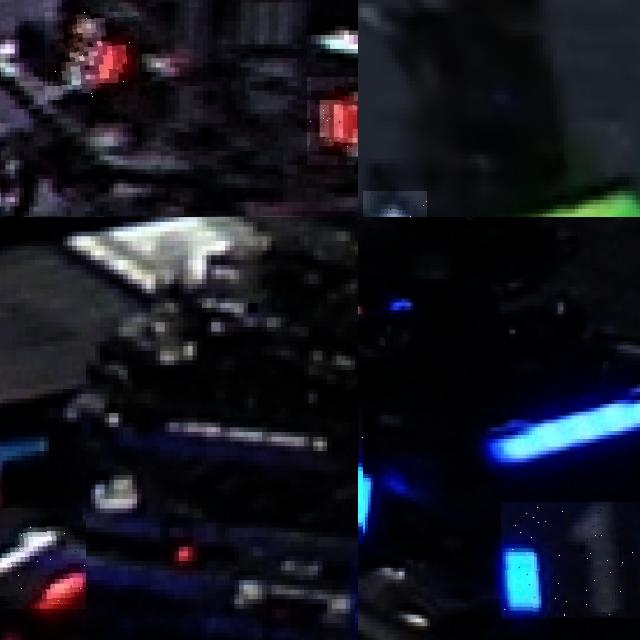B1: (501, 501, 640, 618)
B5: (362, 190, 427, 217)
R1: (0, 508, 86, 608)
R2: (46, 12, 140, 100), (306, 77, 358, 165)
